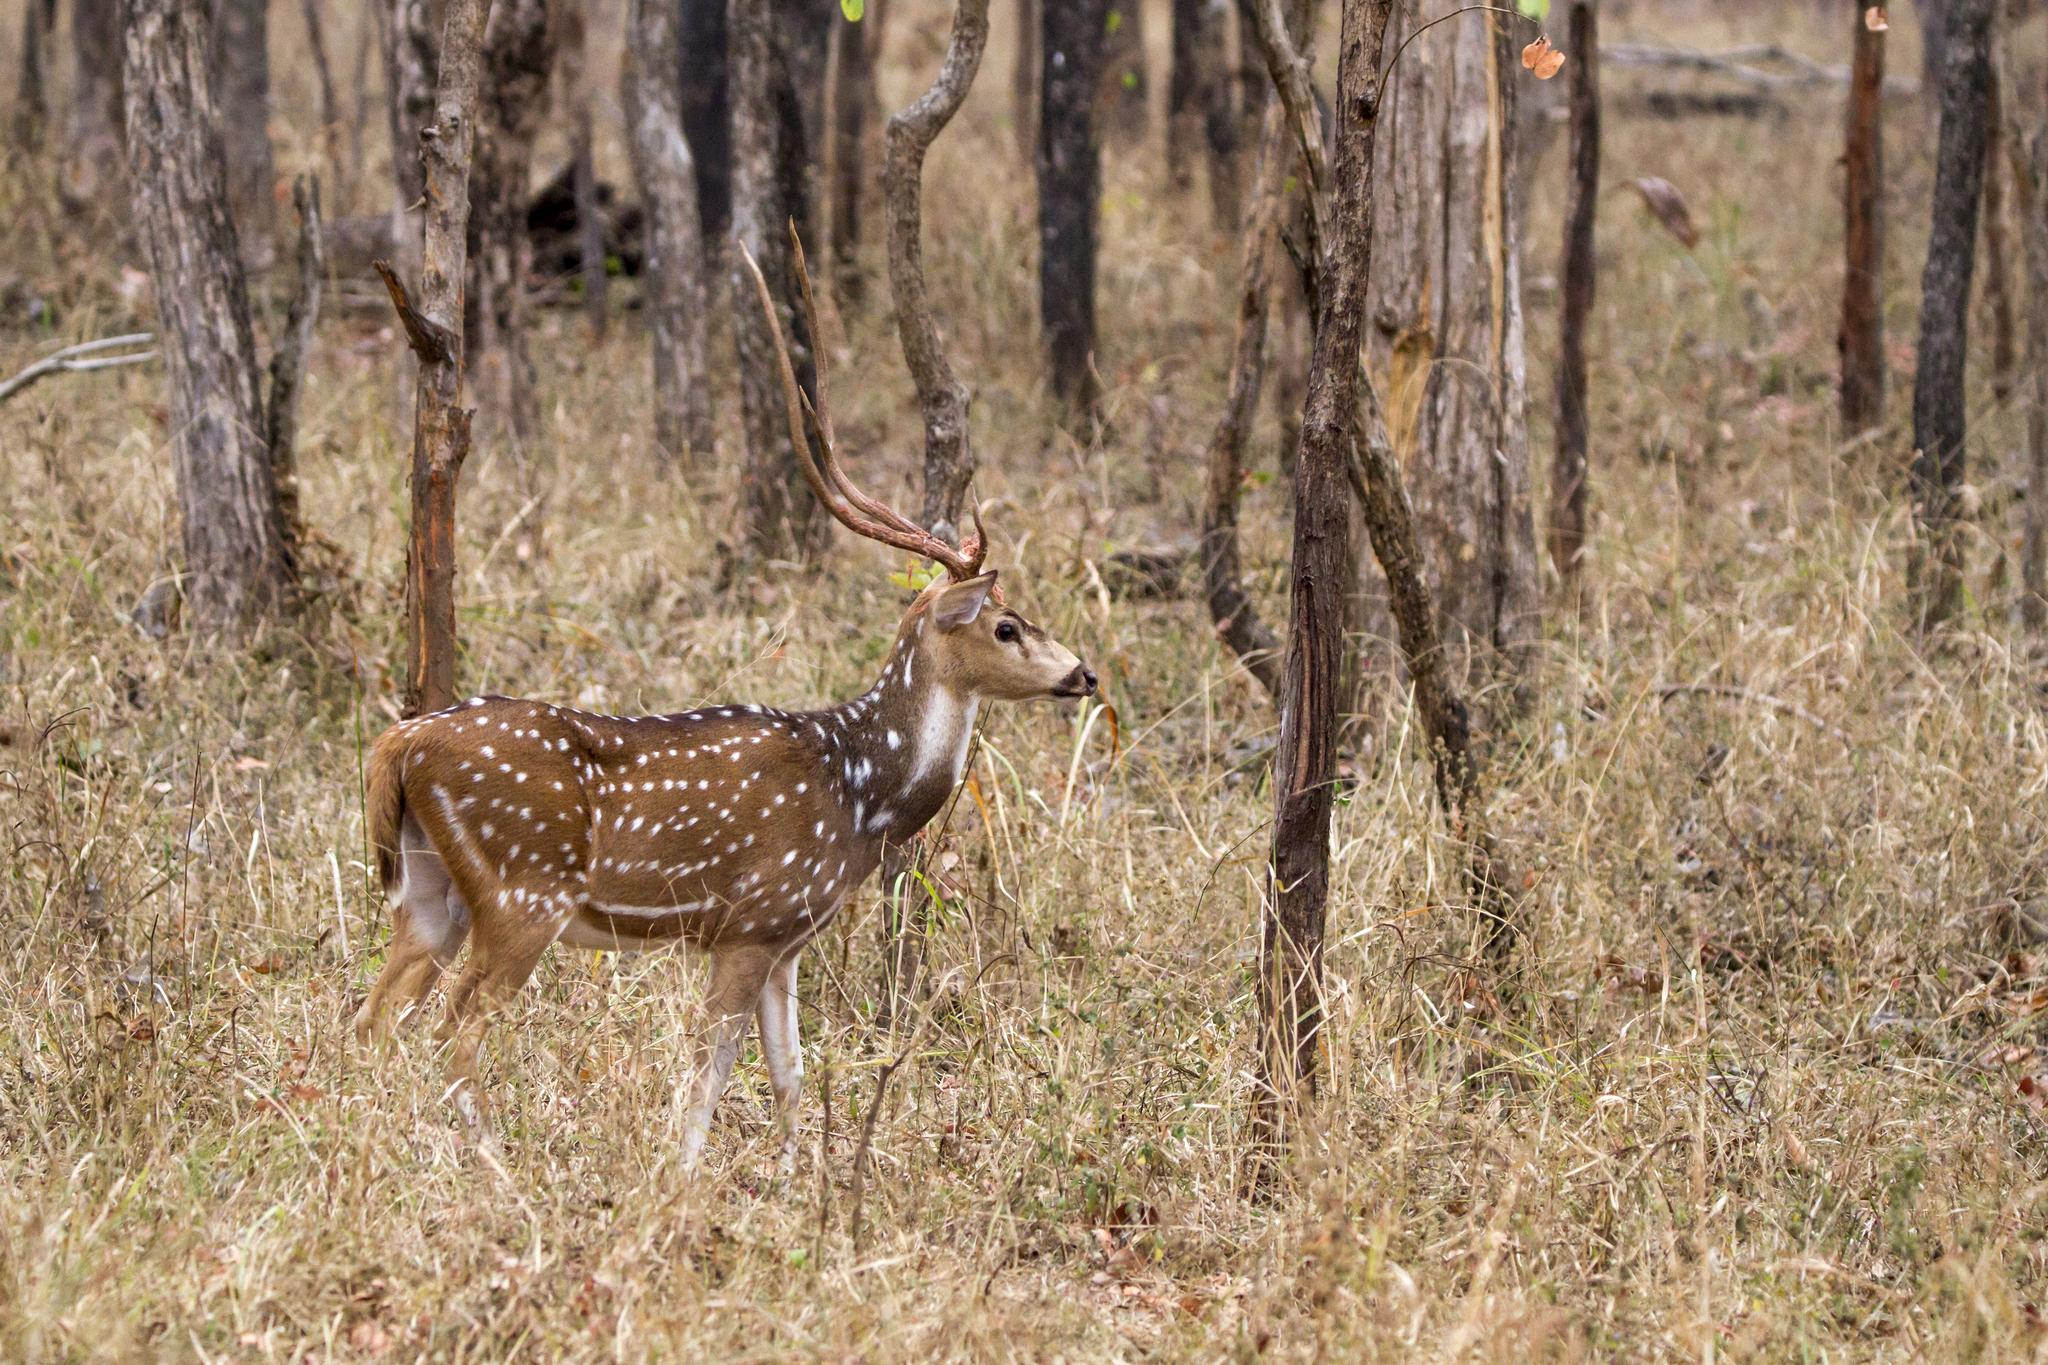Deer: (355, 215, 1096, 1162)
